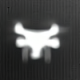plane: (10, 18, 69, 64)
